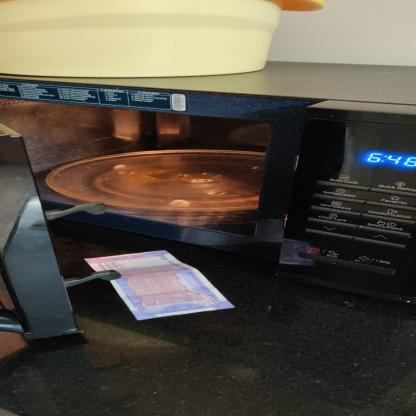New100Back: (86, 250, 236, 321)
